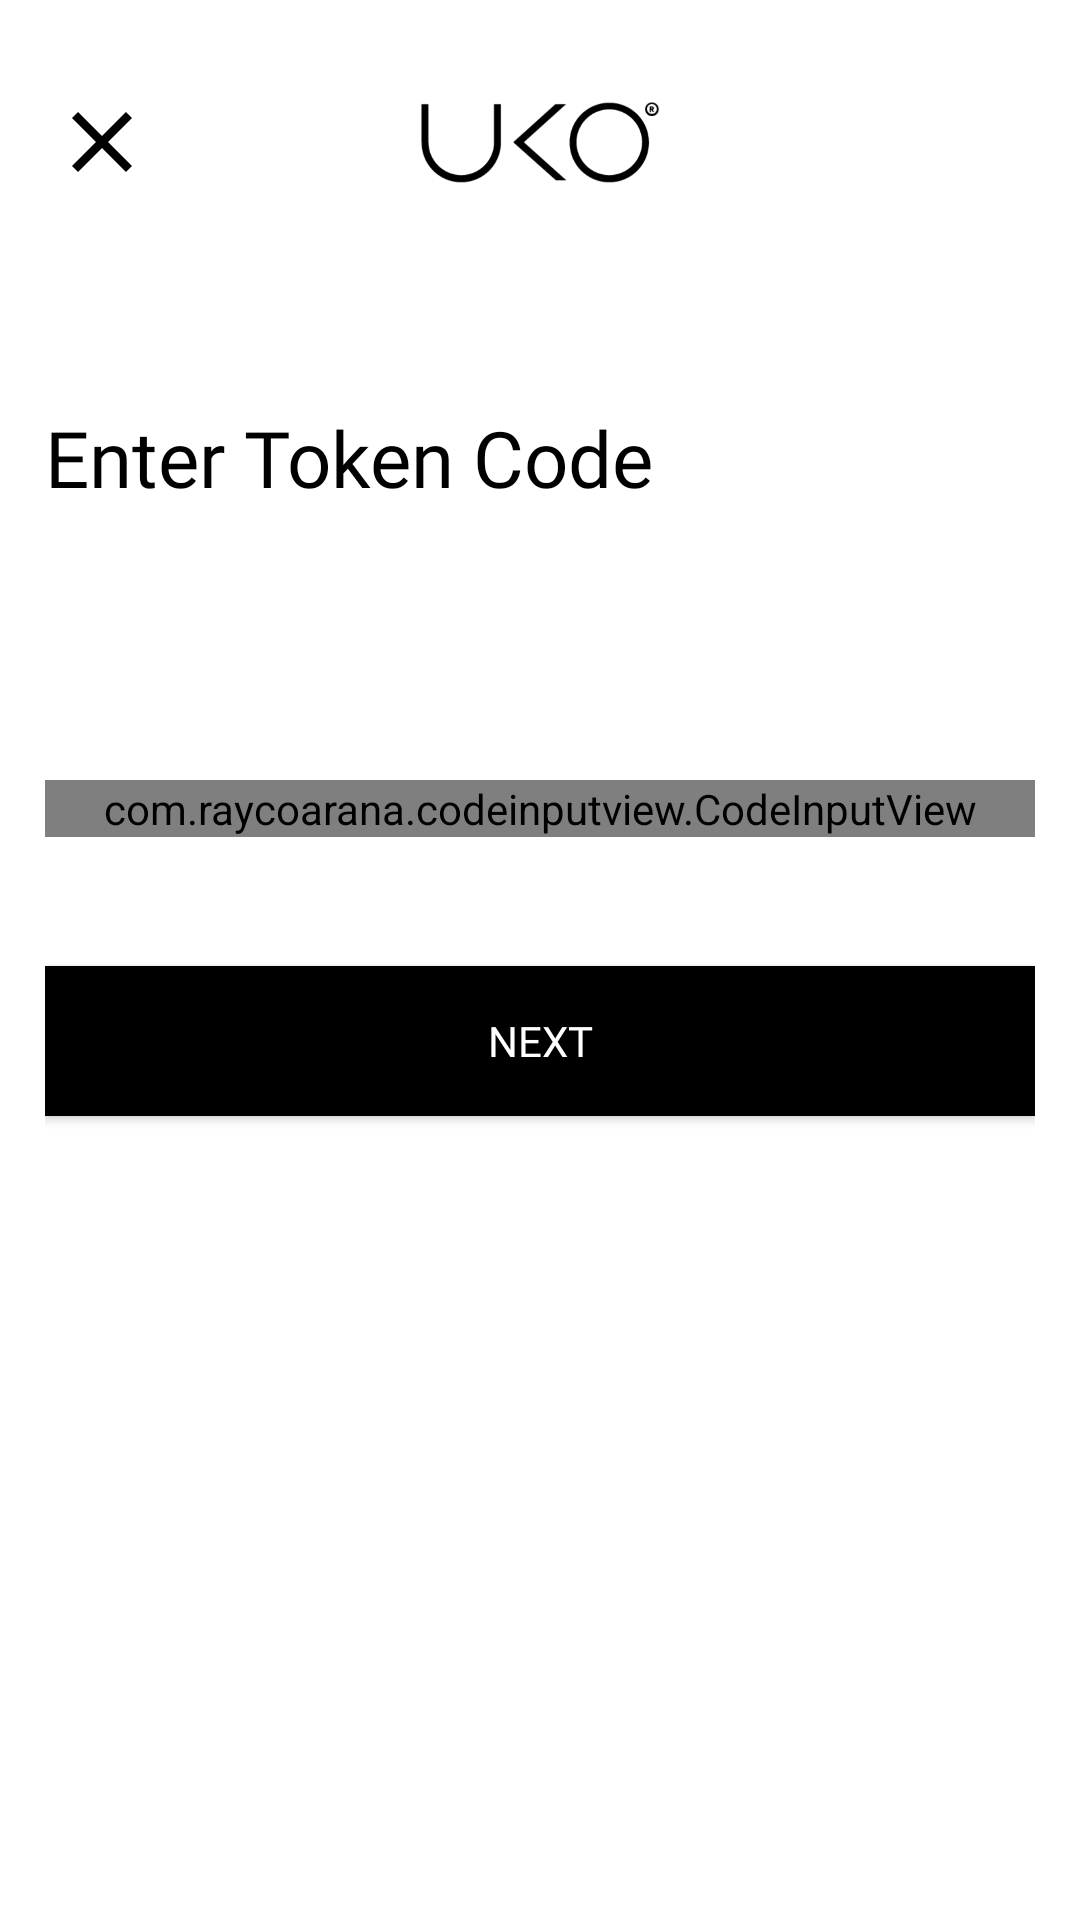

Named icons in this screenshot (1080px×1920px) and their centers, point (x, y):
close: point (102, 142)
